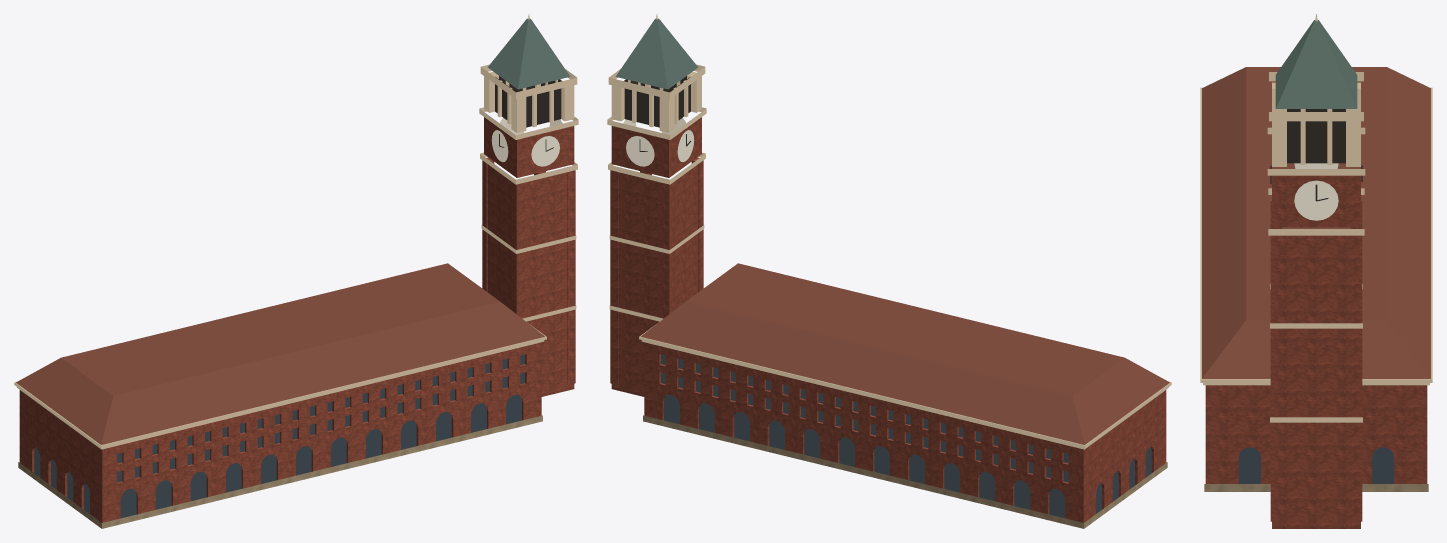
The model's file is king_street_station.glb.
The picture shows the model from 3 angles, left to right: view 1: azimuth 30°, elevation 25°; view 2: azimuth 150°, elevation 25°; view 3: azimuth 270°, elevation 25°; orthographic projection. The views are drawn at different scales.
Parts seen in each view (by area): view 1: king_street_station; view 2: king_street_station; view 3: king_street_station.
Part boxes in pixels (x1,y1,x2,y2): king_street_station: (14,14,578,528); king_street_station: (607,14,1171,528); king_street_station: (1200,14,1432,528).
Size of the model in its own units: 105 by 74 by 31.41.
3 materials, 3 textured.
